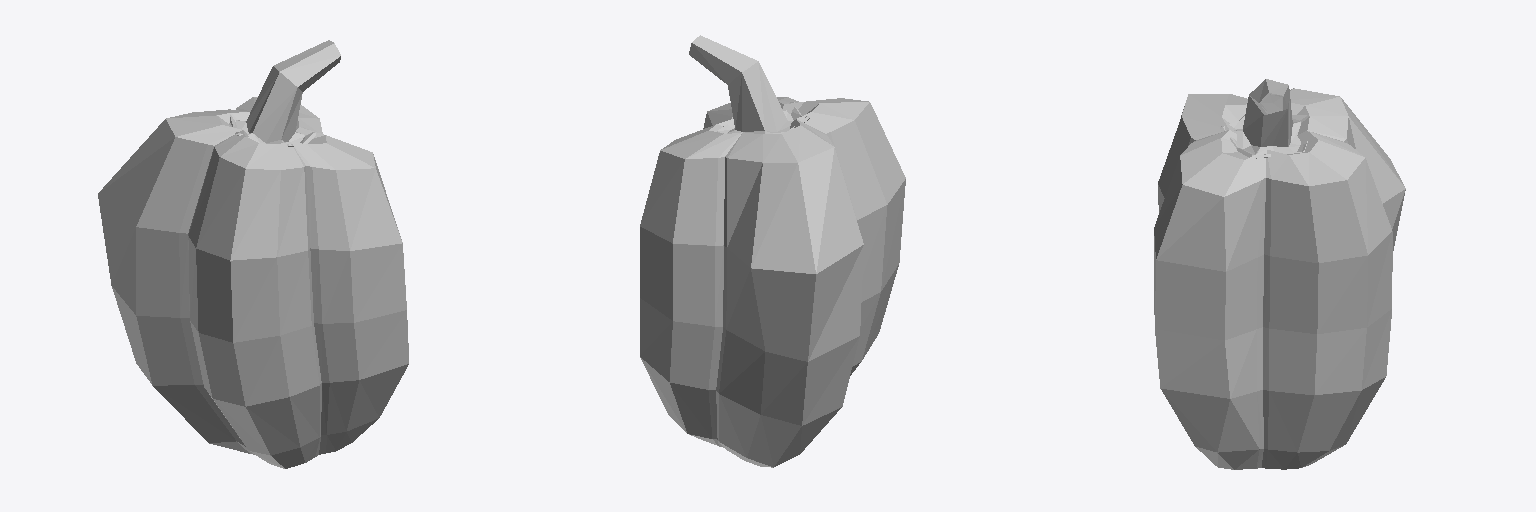
The model's file is uploads_files_49358_Pepper.obj.
The picture shows the model from 3 angles: view 1: azimuth 30°, elevation 25°; view 2: azimuth 150°, elevation 25°; view 3: azimuth 270°, elevation 25°; orthographic projection.
Parts seen in each view (by area): view 1: Pepper_Body, Pepper_Top; view 2: Pepper_Body, Pepper_Top; view 3: Pepper_Body, Pepper_Top.
Boxes of the visible parts, x1,y1,x2,y2 form: Pepper_Body: [98, 97, 408, 468]; Pepper_Top: [229, 40, 340, 146]; Pepper_Body: [640, 97, 905, 467]; Pepper_Top: [689, 35, 809, 133]; Pepper_Body: [1154, 88, 1405, 469]; Pepper_Top: [1220, 79, 1307, 158].
Size of the model in its own units: 38.74 by 68.24 by 39.17.